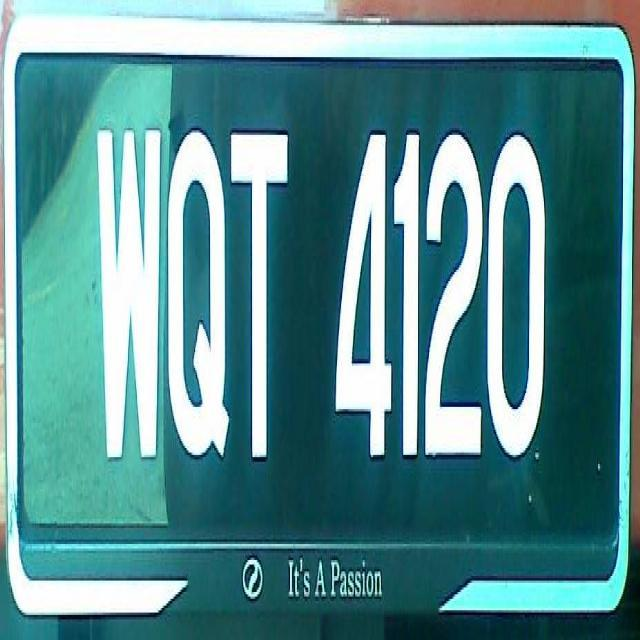car-plate: (6, 12, 632, 617)
